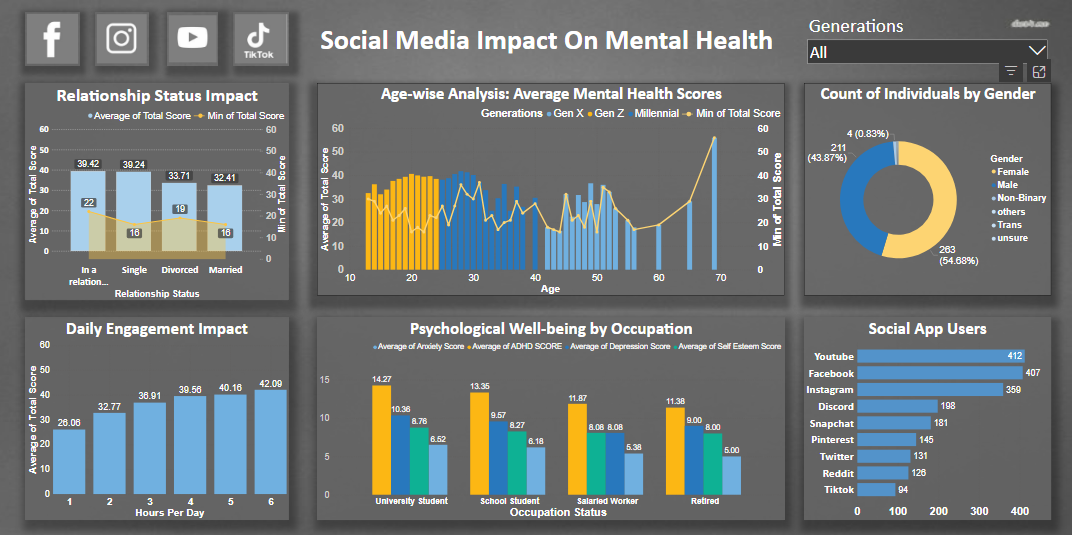

This screenshot's page, from the dashboard's own definition file:
{"tool":"powerbi","page":{"name":"the Impact of Social Media on Mental Health","canvas":[3000,1500],"ordinal":0},"visuals":[{"type":"clusteredColumnChart","title":"Daily Engagement Impact","fields":{"Category":["mental health2.Hours Per Day"],"Y":["Avg(mental health2.Total Score)"]},"box":[77.9,883.1,733.8,564.9],"z":0},{"type":"slicer","title":"Genarations","fields":{"Values":["mental health2.Generations"]},"box":[2246.8,32.5,688.3,152.6],"z":1000},{"type":"lineStackedColumnComboChart","title":"Age-wise Analysis: Average Mental Health Scores","fields":{"Category":["mental health2.Age"],"Y":["Avg(mental health2.Total Score)"],"Y2":["Min(mental health2.Total Score)"],"Series":["mental health2.Generations"]},"box":[889.6,230.5,1301.9,590.9],"z":2000},{"type":"donutChart","title":"Count of Individuals by Gender","fields":{"Category":["mental health2.Gender"],"Y":["CountNonNull(mental health2.Gender)"]},"box":[2246.8,230.5,688.3,590.9],"z":3000},{"type":"lineStackedColumnComboChart","title":"Relationship Status Impact","fields":{"Category":["mental health2.Relationship Status"],"Y":["Avg(mental health2.Total Score)"],"Y2":["Min(mental health2.Total Score)"]},"box":[77.9,230.5,733.8,603.9],"z":4000},{"type":"clusteredBarChart","title":"Social App Users","fields":{"Category":["Sheet2.social apps"],"Y":["CountNonNull(Sheet2.Depression Score)"]},"box":[2246.8,883.1,688.3,564.9],"z":5000},{"type":"clusteredColumnChart","title":"Psychological Well-being by Occupation","fields":{"Category":["mental health2.Occupation Status"],"Y":["Avg(mental health2.Anxiety Score)","Avg(mental health2.ADHD SCORE)","Avg(mental health2.Depression Score)","Avg(mental health2.Self Esteem Score)"]},"box":[889.6,883.1,1301.9,564.9],"z":6000},{"type":"shape","title":"Social Media  Impact On Mental Health","box":[889.6,61.7,1279.2,87.7],"z":7000},{"type":"image","box":[77.9,32.5,152.6,149.4],"z":8000},{"type":"image","box":[272.7,32.5,149.4,149.4],"z":9000},{"type":"image","box":[474,32.5,142.9,149.4],"z":10000},{"type":"image","box":[655.8,32.5,155.8,149.4],"z":11000}]}

Visuals, with their boxes in screenshot pixels (x1, y1, x2, y2), scaled from the page's 3000x1500 canvas onto the 1072x535 screenshot:
"Daily Engagement Impact" clusteredColumnChart: pyautogui.locateOnScreen(28, 315, 290, 516)
"Genarations" slicer: pyautogui.locateOnScreen(803, 12, 1049, 66)
"Age-wise Analysis: Average Mental Health Scores" lineStackedColumnComboChart: pyautogui.locateOnScreen(318, 82, 783, 293)
"Count of Individuals by Gender" donutChart: pyautogui.locateOnScreen(803, 82, 1049, 293)
"Relationship Status Impact" lineStackedColumnComboChart: pyautogui.locateOnScreen(28, 82, 290, 298)
"Social App Users" clusteredBarChart: pyautogui.locateOnScreen(803, 315, 1049, 516)
"Psychological Well-being by Occupation" clusteredColumnChart: pyautogui.locateOnScreen(318, 315, 783, 516)
"Social Media  Impact On Mental Health" shape: pyautogui.locateOnScreen(318, 22, 775, 53)
image: pyautogui.locateOnScreen(28, 12, 82, 65)
image: pyautogui.locateOnScreen(97, 12, 151, 65)
image: pyautogui.locateOnScreen(169, 12, 220, 65)
image: pyautogui.locateOnScreen(234, 12, 290, 65)
